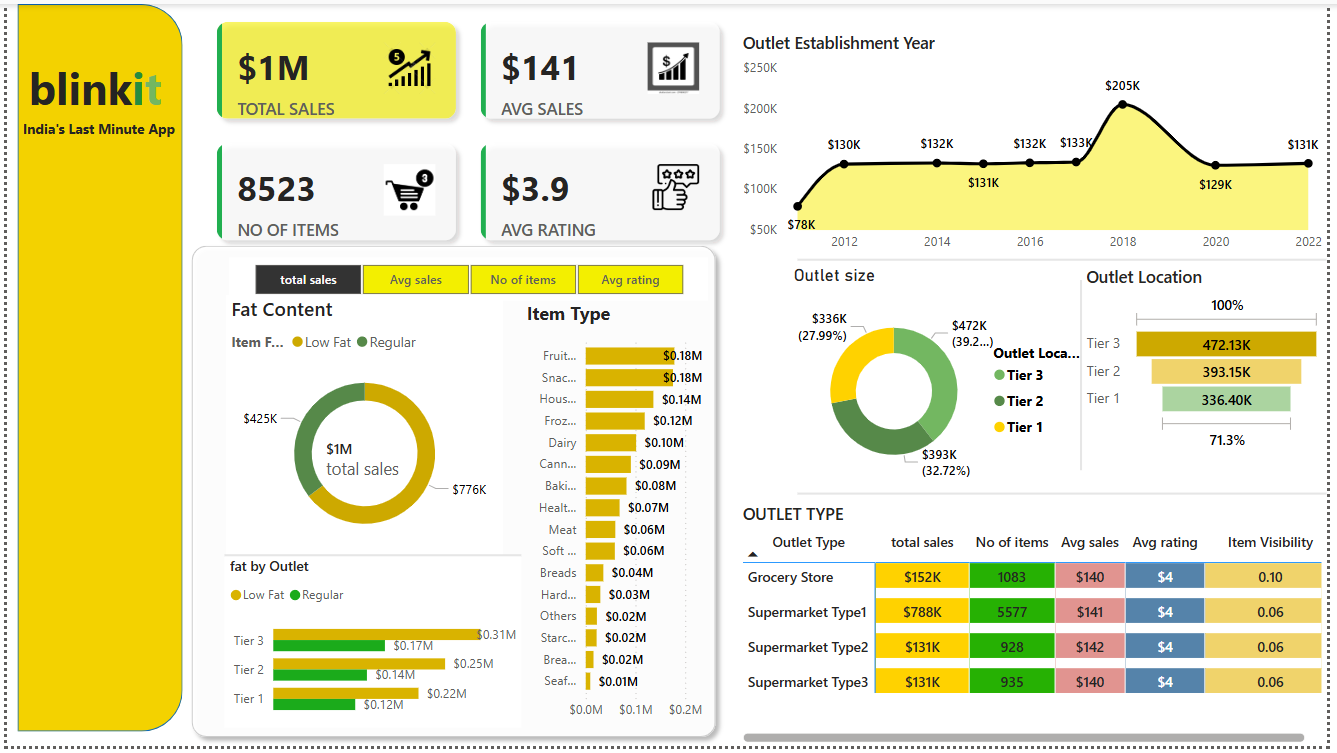

The dashboard page shown, as its layout file describes it:
{"tool":"powerbi","page":{"name":"Page 1","canvas":[1280,720],"ordinal":0},"visuals":[{"type":"shape","box":[9.7,0,160.3,706],"z":0},{"type":"textbox","box":[16,46.6,154.3,78.6],"z":1000},{"type":"cardVisual","fields":{"Data":["BlinkIT Grocery Data.total sales","BlinkIT Grocery Data.Avg sales","BlinkIT Grocery Data.No of items","BlinkIT Grocery Data.Avg rating"]},"box":[186.2,0,523,247.7],"z":2000},{"type":"shape","box":[169.7,226.3,526.3,494.7],"z":3000},{"type":"donutChart","title":"Fat Content","fields":{"Y":["BlinkIT Grocery Data.total sales"],"Category":["BlinkIT Grocery Data.Item Fat Content"]},"box":[211.8,282.9,268.4,252.6],"z":4000},{"type":"slicer","fields":{"Values":["metrics.metrics"]},"box":[215.4,246.1,464.7,42.1],"z":5000},{"type":"cardVisual","fields":{"Data":["BlinkIT Grocery Data.total sales"]},"box":[292.1,405.3,107.9,63.2],"z":6000},{"type":"clusteredBarChart","title":"fat by Outlet ","fields":{"Y":["BlinkIT Grocery Data.total sales"],"Category":["BlinkIT Grocery Data.Outlet Location Type"],"Series":["BlinkIT Grocery Data.Item Fat Content"]},"box":[210.5,536,288.2,166.8],"z":7000},{"type":"shape","box":[210.5,492.2,288.2,85.8],"z":8000},{"type":"barChart","title":"Item Type","fields":{"Y":["BlinkIT Grocery Data.total sales"],"Category":["BlinkIT Grocery Data.Item Type"]},"box":[498.7,288.2,197.5,414.5],"z":9000},{"type":"lineChart","title":"Outlet Establishment Year","fields":{"Category":["BlinkIT Grocery Data.Outlet Establishment Year"],"Y":["BlinkIT Grocery Data.total sales"]},"box":[709.2,25.9,571.6,221.8],"z":10000},{"type":"shape","box":[767.5,197.5,513.3,100.4],"z":11000},{"type":"donutChart","title":"Outlet size","fields":{"Y":["BlinkIT Grocery Data.total sales"],"Category":["BlinkIT Grocery Data.Outlet Location Type"]},"box":[757.8,252.6,302.8,225.1],"z":12000},{"type":"funnel","title":"Outlet Location ","fields":{"Category":["BlinkIT Grocery Data.Outlet Location Type"],"Y":["Sum(BlinkIT Grocery Data.Sales)"]},"box":[1042.8,252.6,238,184.6],"z":13000},{"type":"shape","box":[890.6,267.2,302.8,184.6],"z":14000},{"type":"shape","box":[767.5,382.1,513.3,184.6],"z":15000},{"type":"pivotTable","title":"OUTLET TYPE","fields":{"Rows":["BlinkIT Grocery Data.Outlet Type"],"Values":["BlinkIT Grocery Data.total sales","BlinkIT Grocery Data.No of items","BlinkIT Grocery Data.Avg sales","BlinkIT Grocery Data.Avg rating","Avg(BlinkIT Grocery Data.Item Visibility)"]},"box":[709.2,482.5,571.6,238],"z":16000},{"type":"textbox","box":[0,106.9,178.1,37.2],"z":17000}]}

Visuals, with their boxes in screenshot pixels (x1, y1, x2, y2), scaled from the page's 1280x720 canvas onto the 1337x753 screenshot:
shape: {"x1": 10, "y1": 0, "x2": 178, "y2": 738}
textbox: {"x1": 17, "y1": 49, "x2": 178, "y2": 131}
cardVisual - BlinkIT Grocery Data.total sales x BlinkIT Grocery Data.Avg sales: {"x1": 194, "y1": 0, "x2": 741, "y2": 259}
shape: {"x1": 177, "y1": 237, "x2": 727, "y2": 752}
"Fat Content" donutChart: {"x1": 221, "y1": 296, "x2": 502, "y2": 560}
slicer - metrics.metrics: {"x1": 225, "y1": 257, "x2": 710, "y2": 301}
cardVisual - BlinkIT Grocery Data.total sales: {"x1": 305, "y1": 424, "x2": 418, "y2": 490}
"fat by Outlet " clusteredBarChart: {"x1": 220, "y1": 561, "x2": 521, "y2": 735}
shape: {"x1": 220, "y1": 515, "x2": 521, "y2": 604}
"Item Type" barChart: {"x1": 521, "y1": 301, "x2": 727, "y2": 735}
"Outlet Establishment Year" lineChart: {"x1": 741, "y1": 27, "x2": 1336, "y2": 259}
shape: {"x1": 802, "y1": 207, "x2": 1336, "y2": 312}
"Outlet size" donutChart: {"x1": 792, "y1": 264, "x2": 1108, "y2": 500}
"Outlet Location " funnel: {"x1": 1089, "y1": 264, "x2": 1336, "y2": 457}
shape: {"x1": 930, "y1": 279, "x2": 1247, "y2": 473}
shape: {"x1": 802, "y1": 400, "x2": 1336, "y2": 593}
"OUTLET TYPE" pivotTable: {"x1": 741, "y1": 505, "x2": 1336, "y2": 752}
textbox: {"x1": 0, "y1": 112, "x2": 186, "y2": 151}
